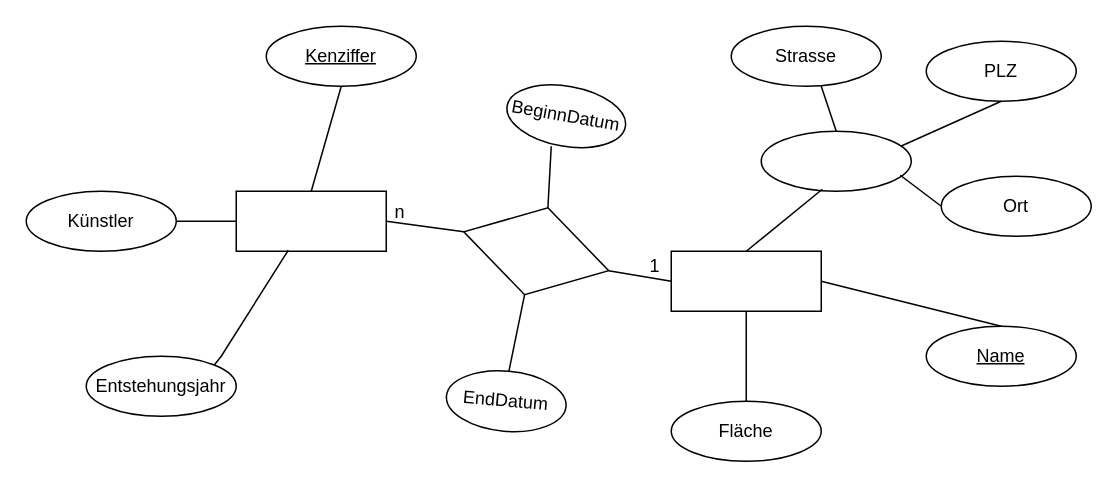
Some shapes in this 1118 by 488 pixel diagram are drawn without their labels. Here are the shapes that lost their labels. From the top down, the box of each, then its label:
(760, 130, 911, 191): Addressse
(235, 190, 386, 251): Kunstwerk
(450, 187, 620, 314): Ausgestelt in
(670, 250, 821, 311): Museum
